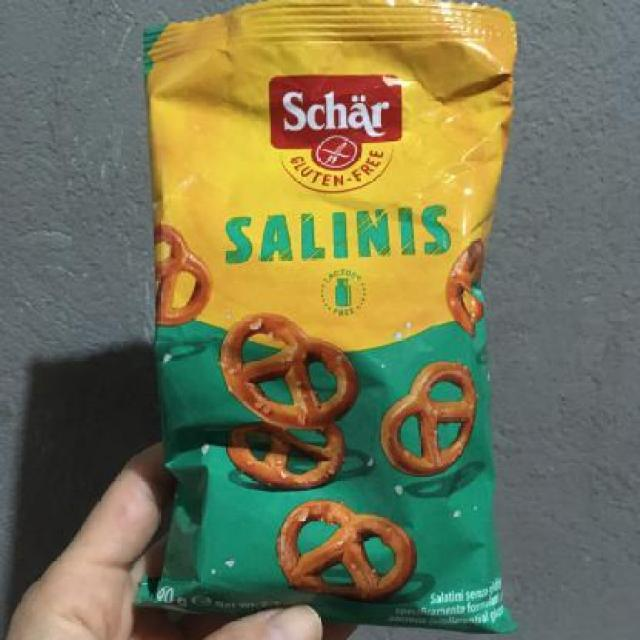Salatini: (126, 4, 523, 632)
